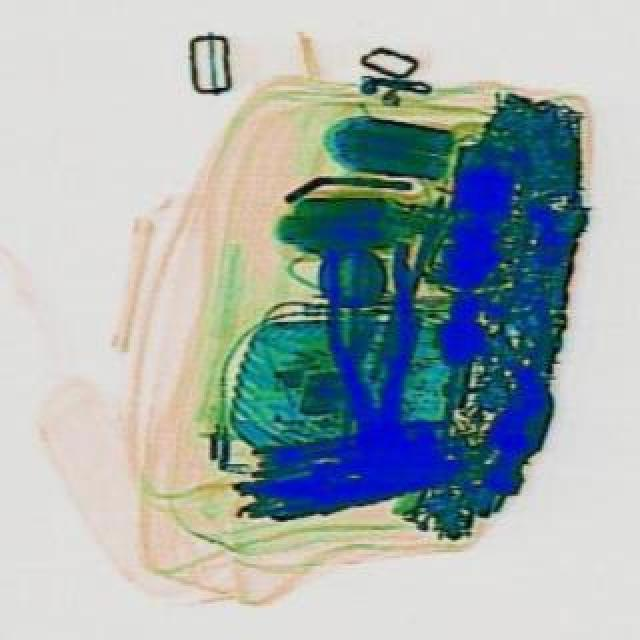wrench: (314, 246, 422, 474)
